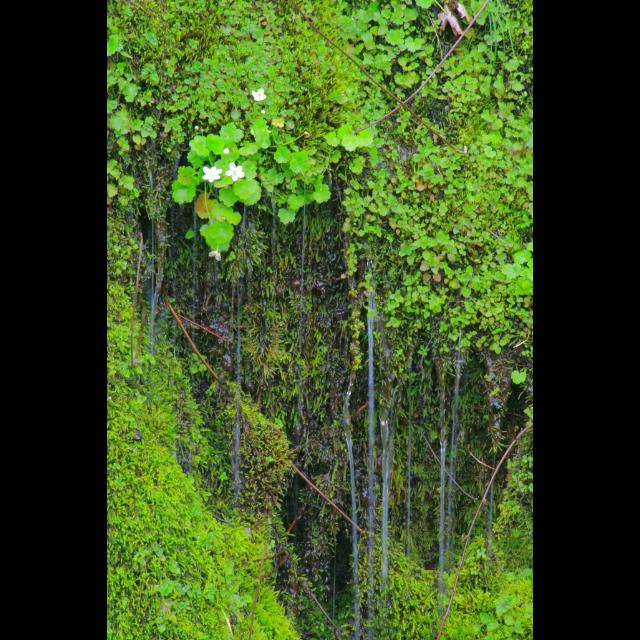Flower: (198, 166, 226, 182), (248, 85, 268, 102), (228, 160, 244, 180), (208, 250, 224, 262)
